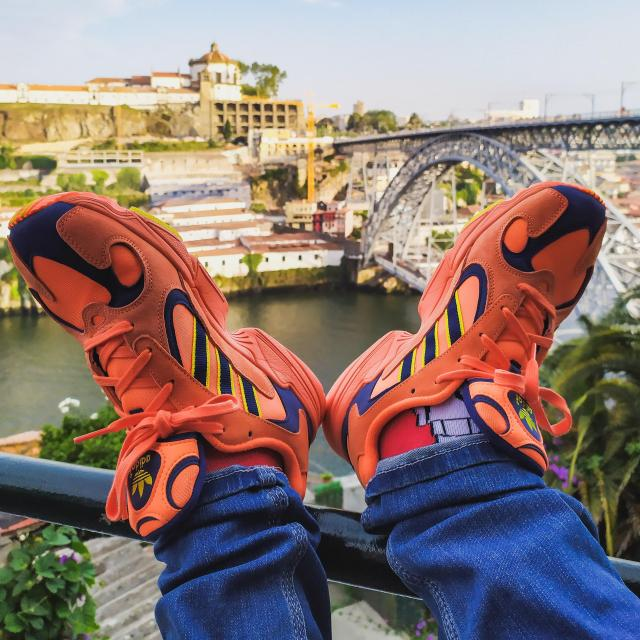shoe: (7, 186, 327, 540), (318, 177, 620, 505)
